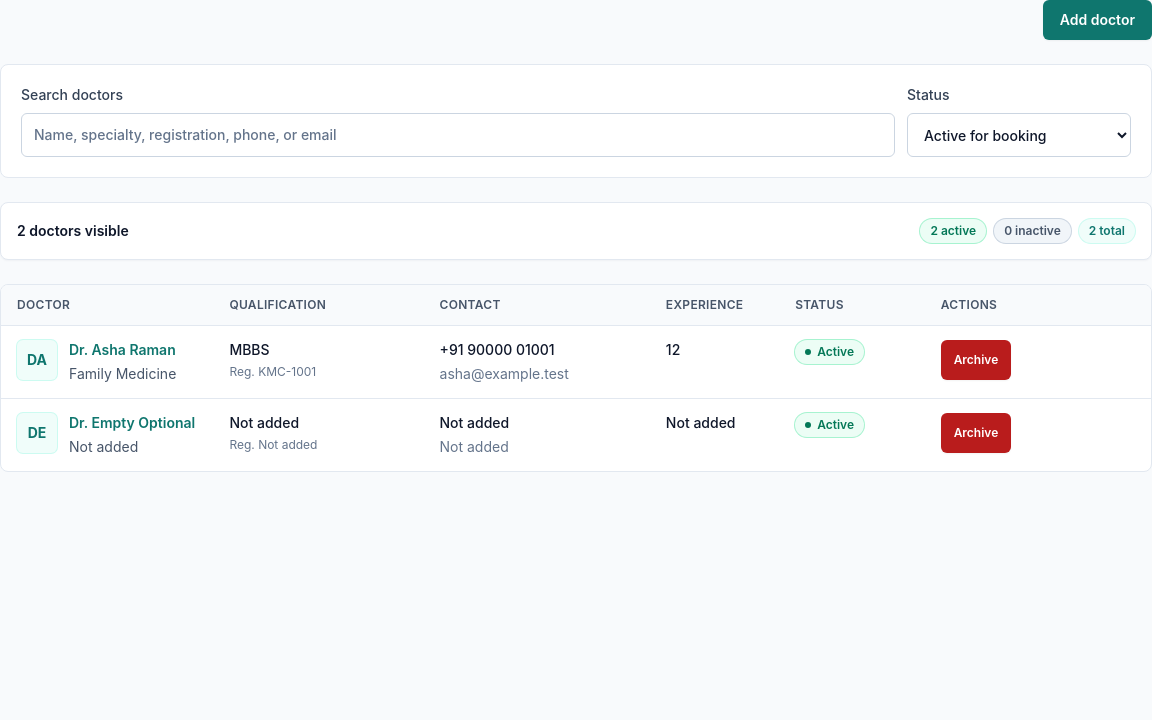
Test case: DoctorsPage edit workflow › shows edit actions, opens pre-filled values, handles optional empty values, and cancels
Expected: the button with aria-label "view profile for dr. asha raman" is shown, left=69, top=340, right=176, bottom=360
Click the button with aria-label "view profile for dr. empty optional" at (132, 423), box left=69, top=413, right=195, bottom=433
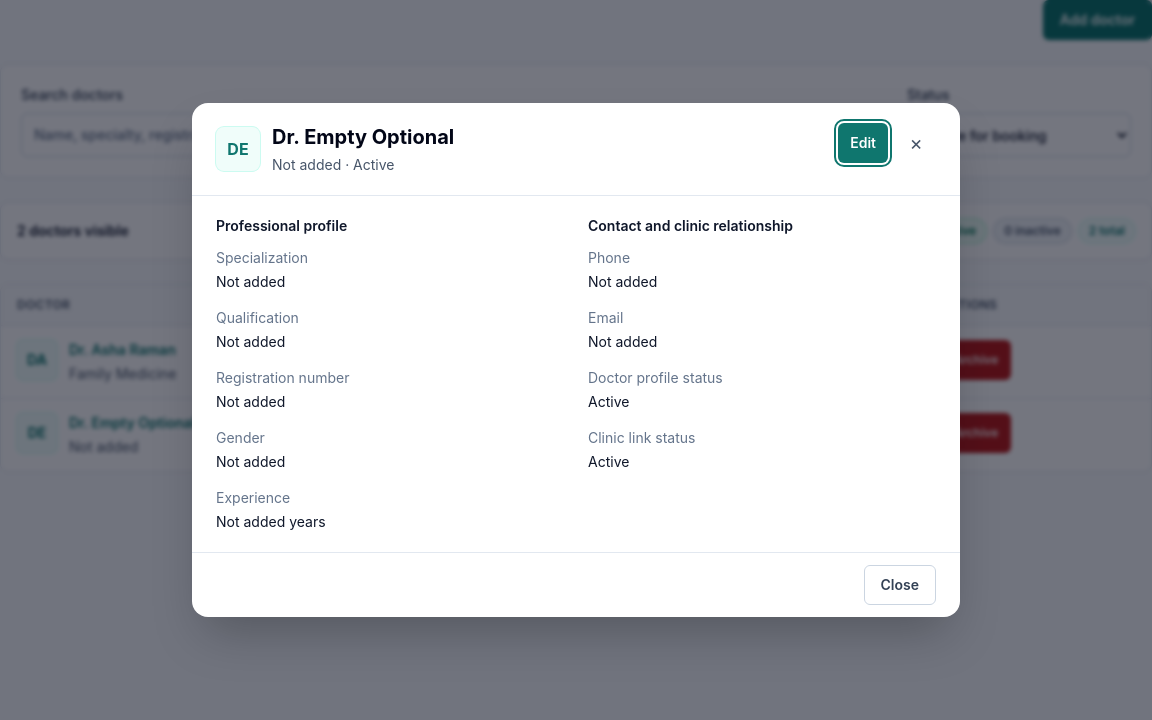
Click the button "Edit" at (863, 143), box left=838, top=123, right=888, bottom=163
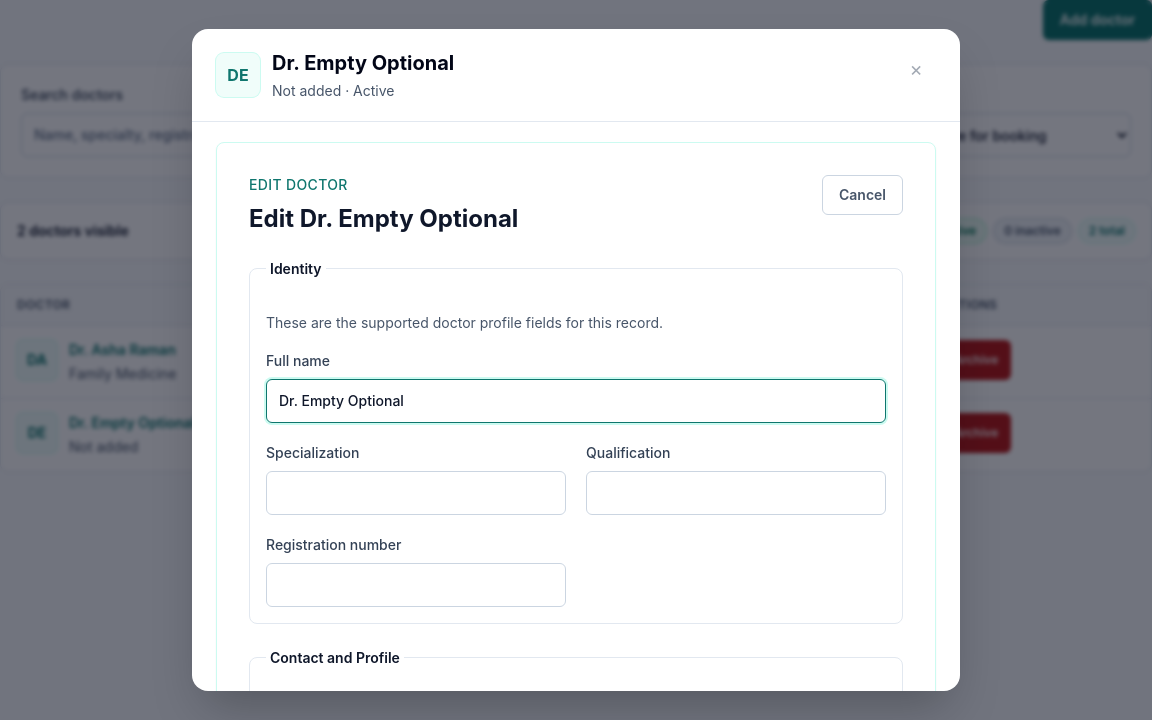
Expected: the heading "Dr. Empty Optional" is shown, left=272, top=49, right=454, bottom=77
Expected: the field labelled "Full name" holds "Dr. Empty Optional", left=266, top=379, right=886, bottom=423
Expected: the field labelled "Specialization" is empty, left=266, top=471, right=566, bottom=515
Click the button "Cancel" at (862, 195), box left=822, top=175, right=903, bottom=215
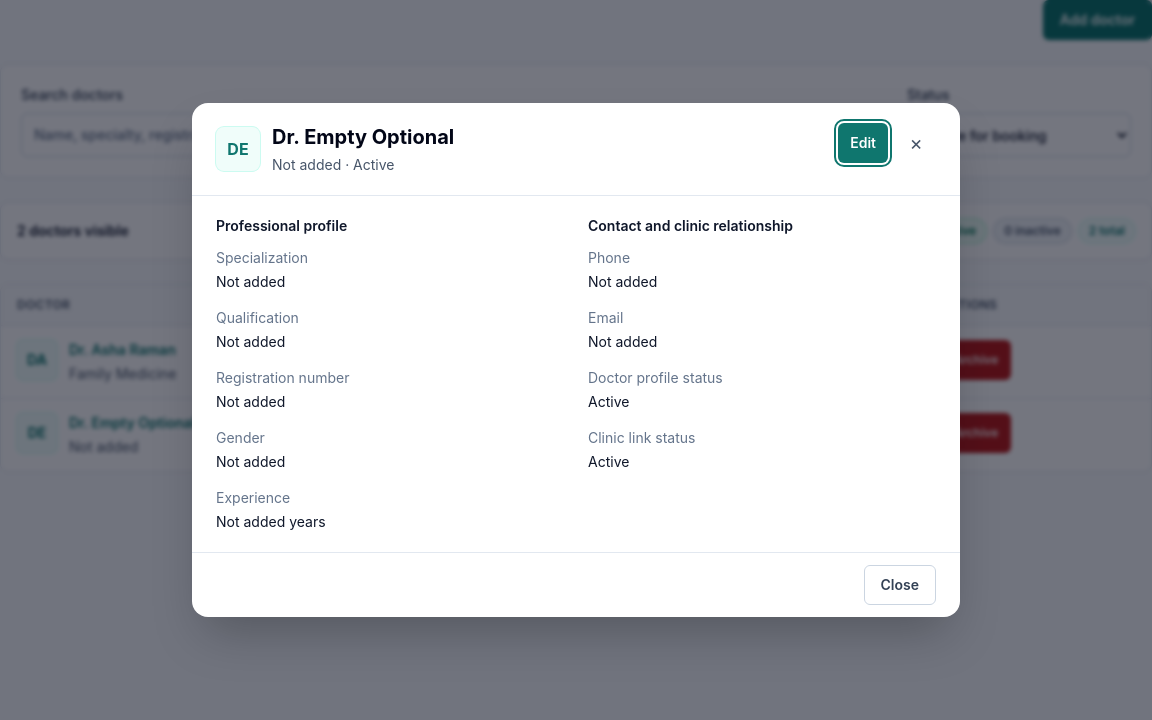
Expected: the heading "Edit Dr. Empty Optional" is gone
